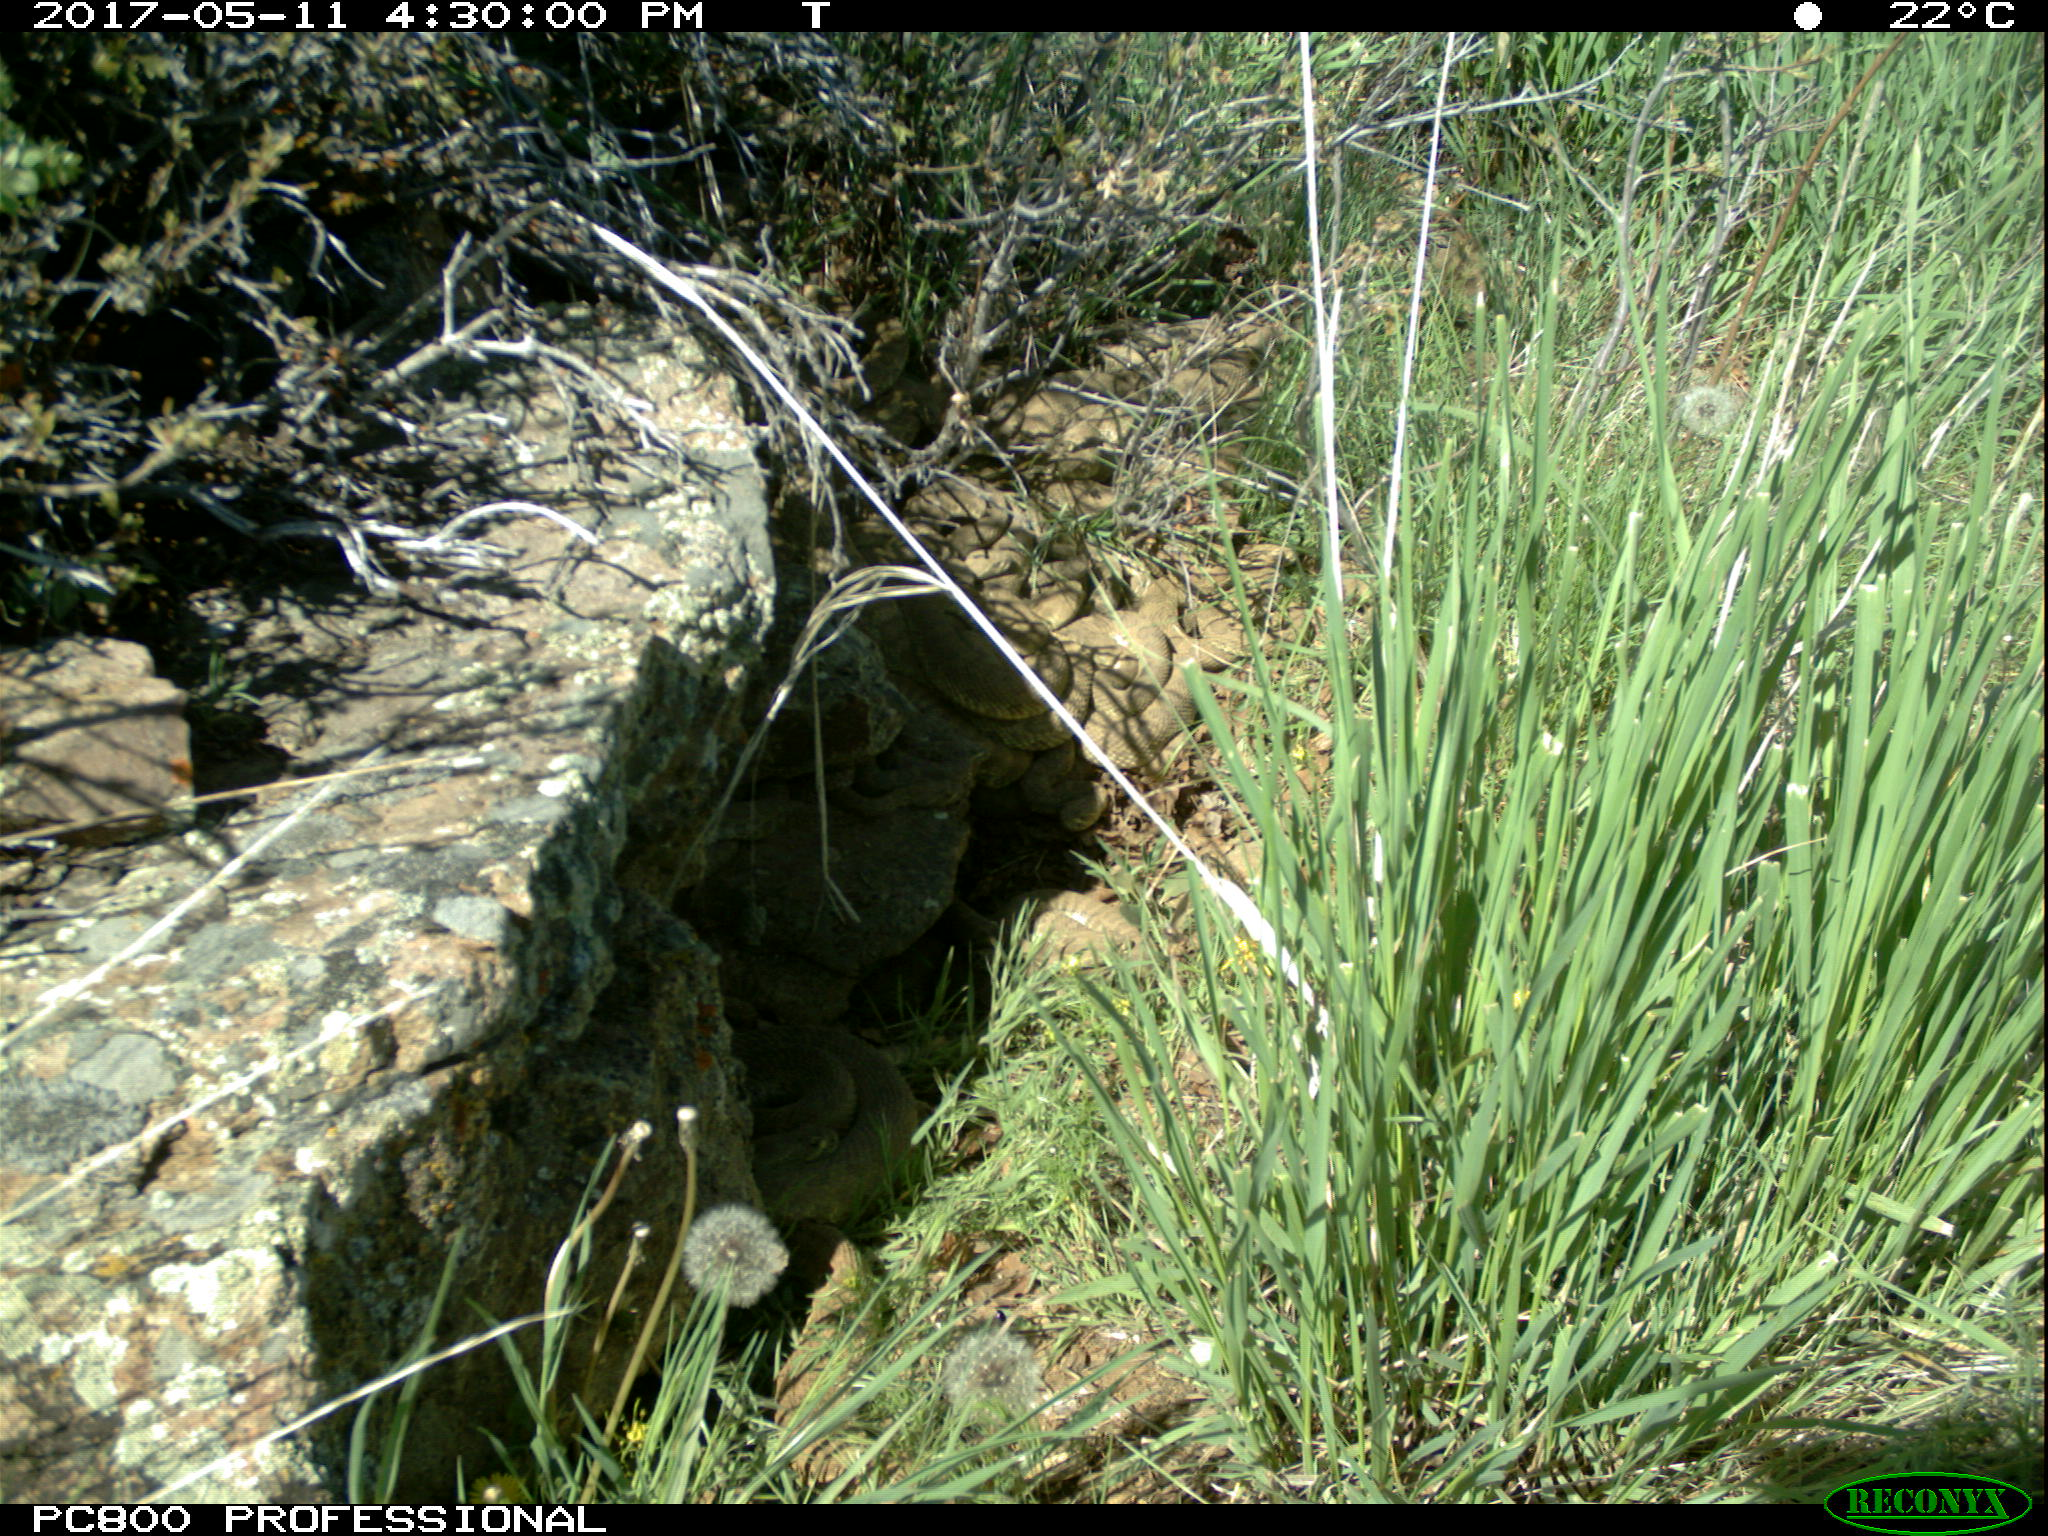snake: (905, 613, 1205, 765), (987, 289, 1258, 455), (1119, 500, 1376, 665), (731, 1020, 930, 1220), (761, 1238, 884, 1494), (897, 481, 1106, 615)
